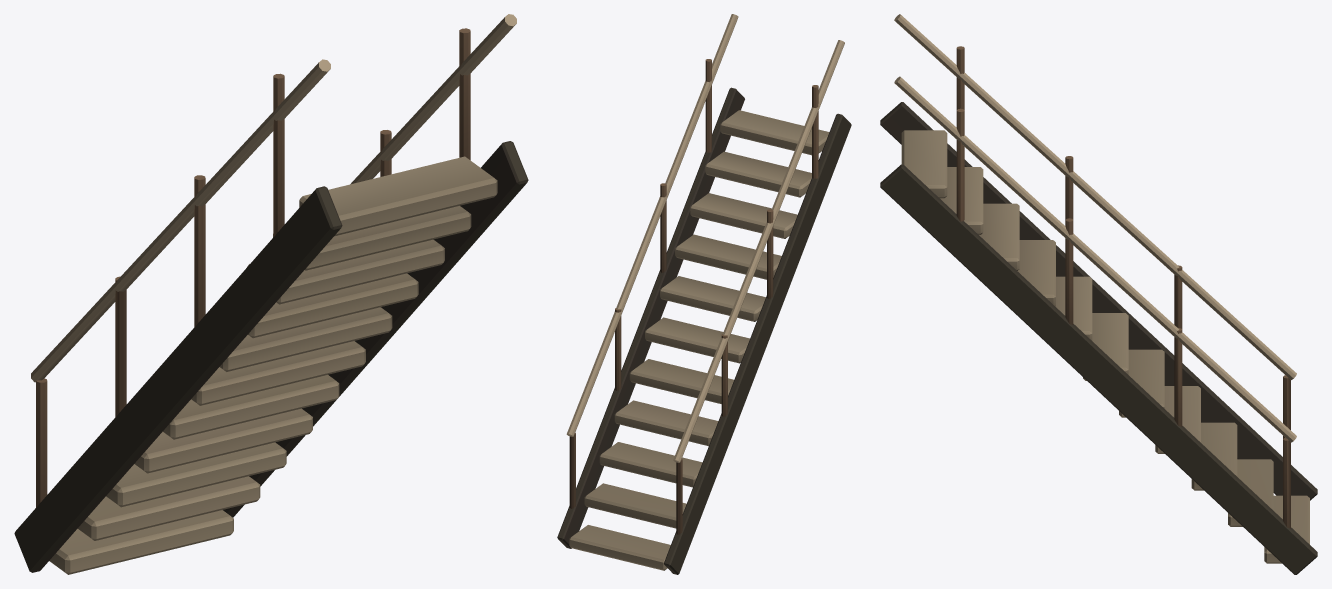
File: stairs.glb
3 renders of one model, left to right at view 1: azimuth 30°, elevation 25°; view 2: azimuth 150°, elevation 25°; view 3: azimuth 270°, elevation 25°, orthographic. The views are drawn at different scales.
Parts seen in each view (by area): view 1: stairs; view 2: stairs; view 3: stairs.
Part boxes in pixels (bbox=[...]): stairs: bbox=[14, 14, 528, 574]; stairs: bbox=[557, 14, 851, 574]; stairs: bbox=[880, 14, 1317, 574].
Bounding box in the file's own units: 1.17 × 4.08 × 3.26.
